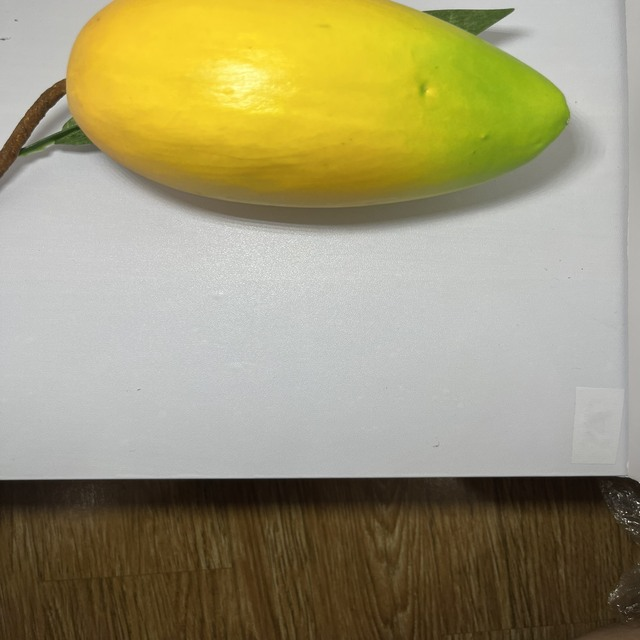Xoai: (57, 0, 578, 213)
